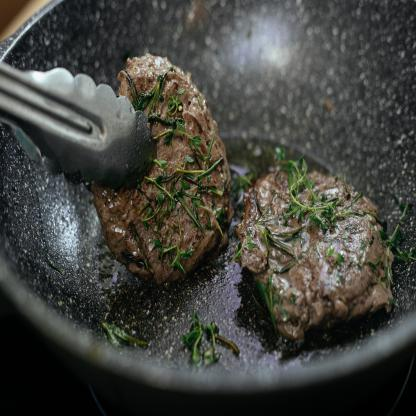Carne: (243, 154, 398, 332), (118, 53, 219, 277)
